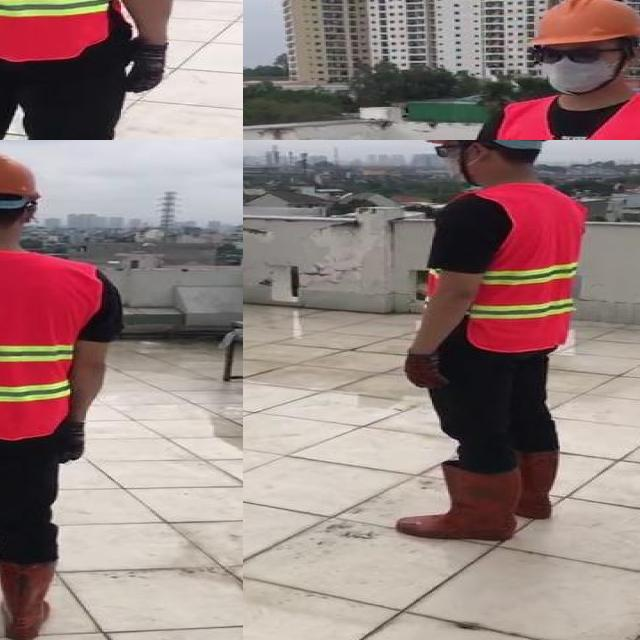boots: (468, 186, 583, 352), (398, 463, 524, 544), (0, 558, 57, 640), (512, 447, 565, 519)
face_mask: (531, 45, 617, 92), (426, 140, 490, 185)
glasses: (525, 42, 612, 68)
hand_glove: (130, 41, 167, 94), (405, 352, 450, 389), (61, 422, 88, 462)
head_helmet: (521, 0, 640, 47), (0, 149, 50, 202)
person: (378, 140, 593, 553), (0, 144, 126, 640), (0, 0, 208, 140), (463, 0, 640, 140)
vest: (0, 250, 98, 439), (0, 0, 124, 61), (498, 95, 640, 140)
